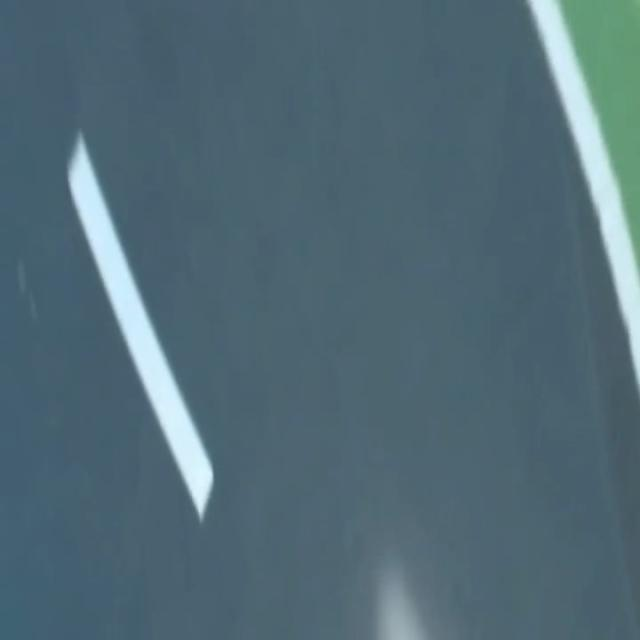center: (68, 133, 212, 521)
right: (527, 0, 639, 390)
